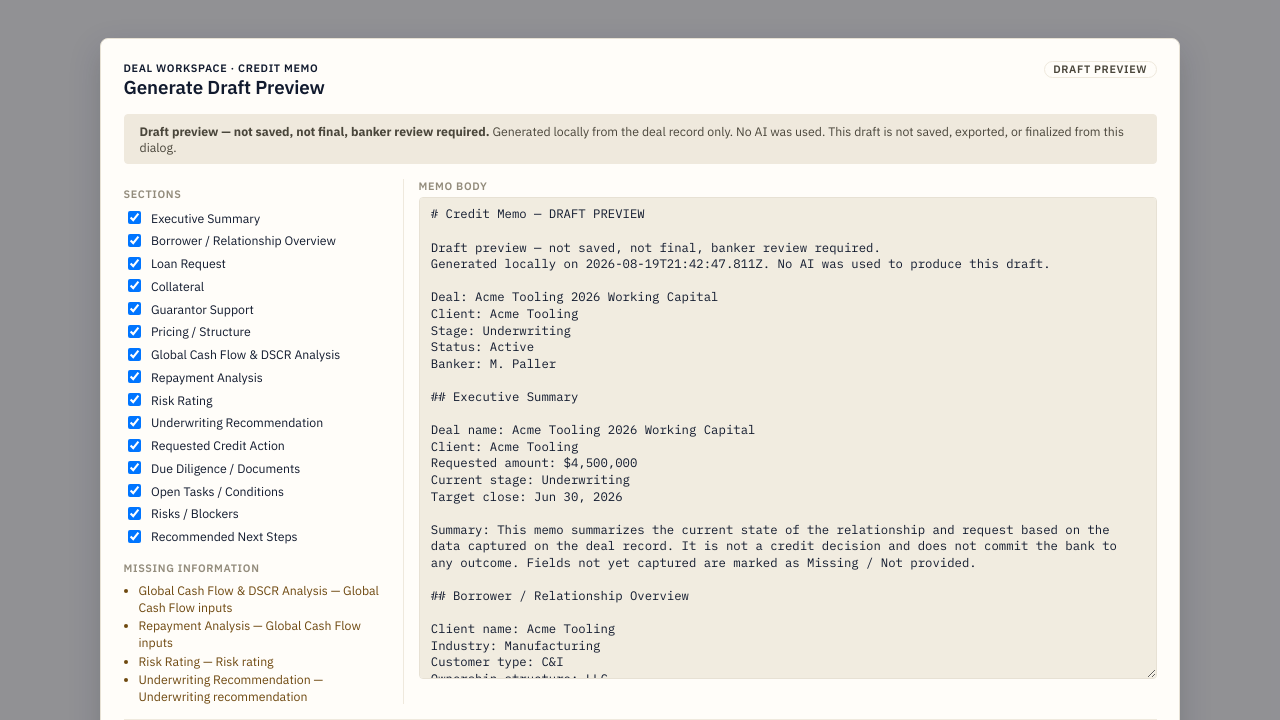
Test case: CreditMemoDraftModal — Copy behavior is local-only › Copy is disabled when the body has been wiped to empty by the banker
Clear the text box labelled "Memo body": (788, 438) [418,197,1156,678]
(page scrolled)
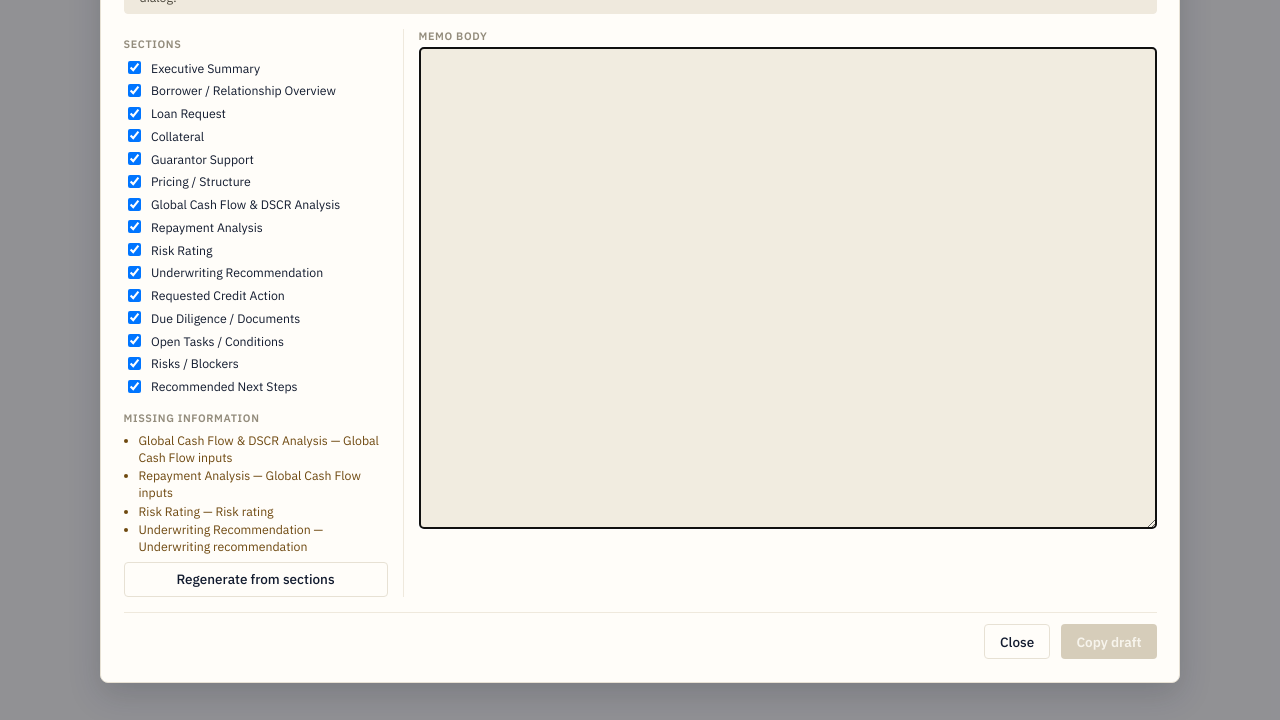
Expected: the button with aria-label "copy draft to clipboard" is disabled, [1061,624,1156,659]
